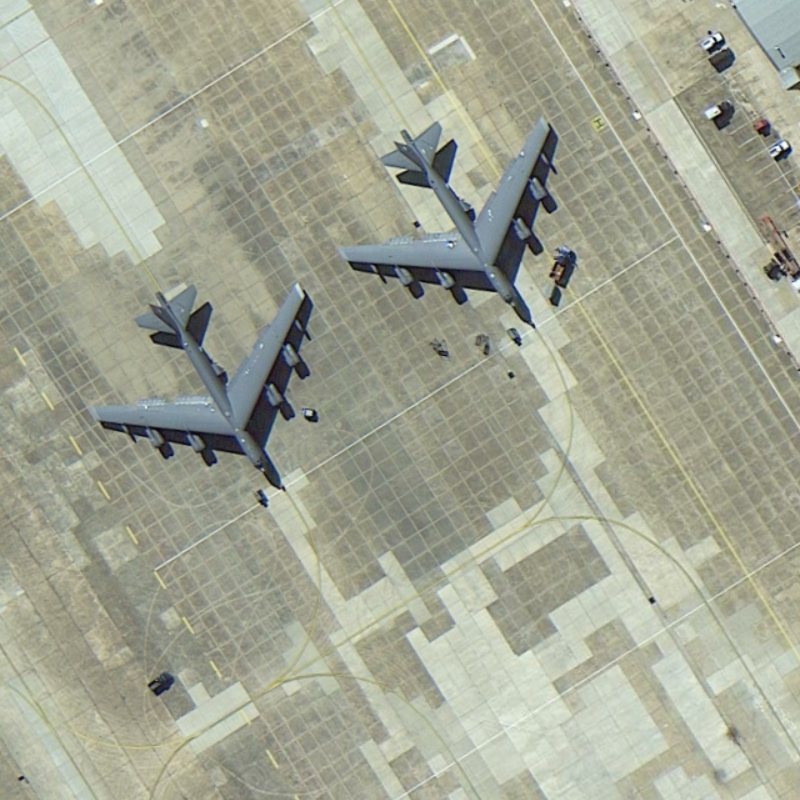A8: (76, 270, 321, 491), (333, 108, 566, 330)
